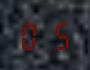five: (45, 20, 70, 50)
zero: (19, 20, 44, 50)
